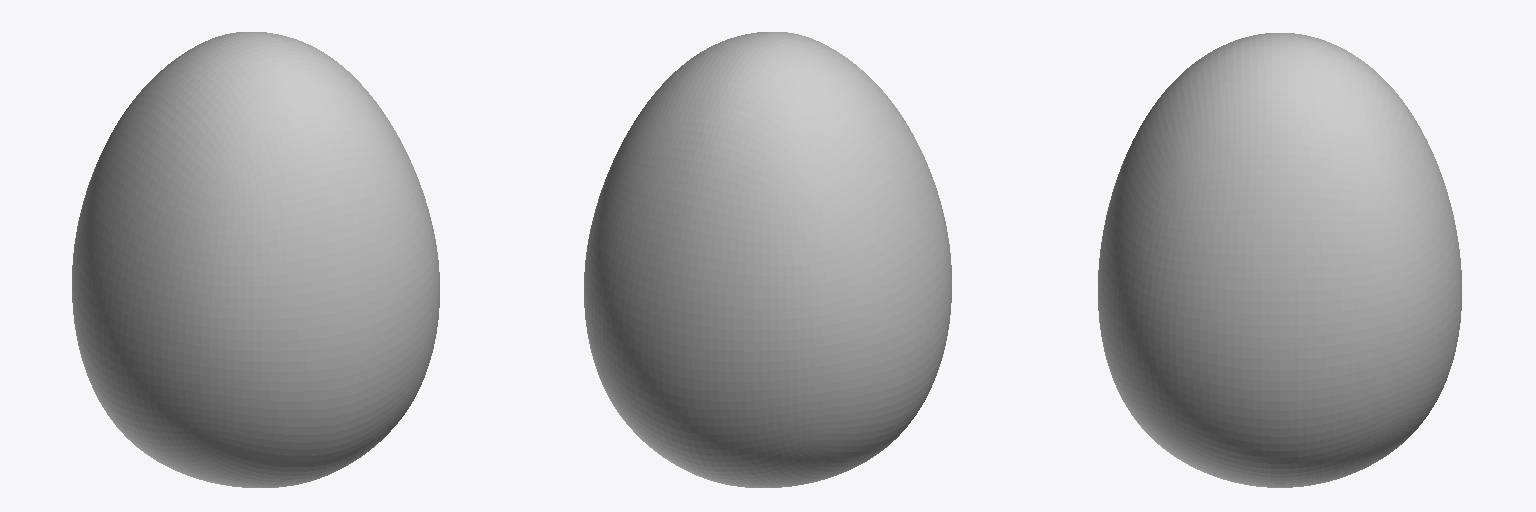
Rendered from egg.obj.
The picture shows the model from 3 angles: view 1: azimuth 30°, elevation 25°; view 2: azimuth 150°, elevation 25°; view 3: azimuth 270°, elevation 25°; orthographic projection.
Visible parts, largest first — view 1: egg; view 2: egg; view 3: egg.
Boxes of the visible parts, box(x1,y1,x2,y2) form: egg: box(72, 32, 439, 487); egg: box(584, 32, 951, 487); egg: box(1098, 33, 1461, 487).
Size of the model in its own units: 0.7049 by 0.9147 by 0.7078.